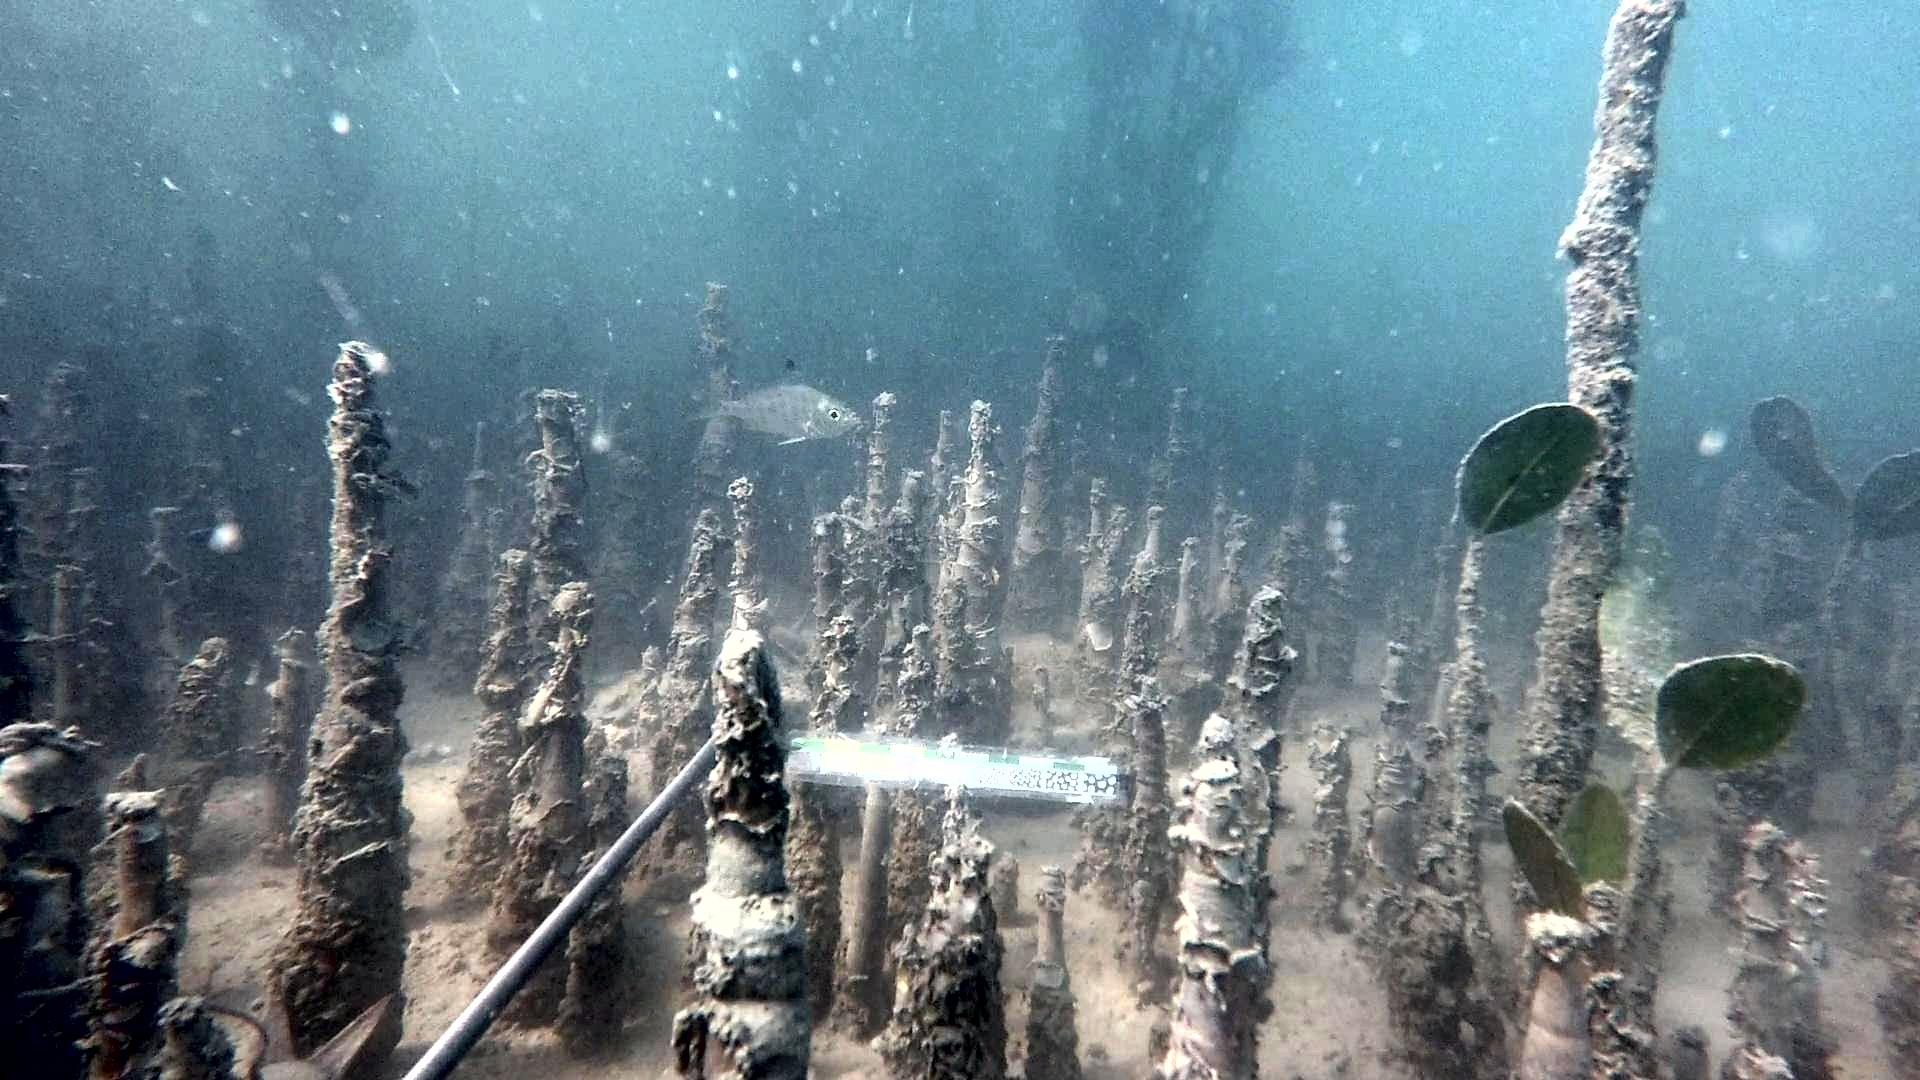gerres: (676, 356, 863, 447)
